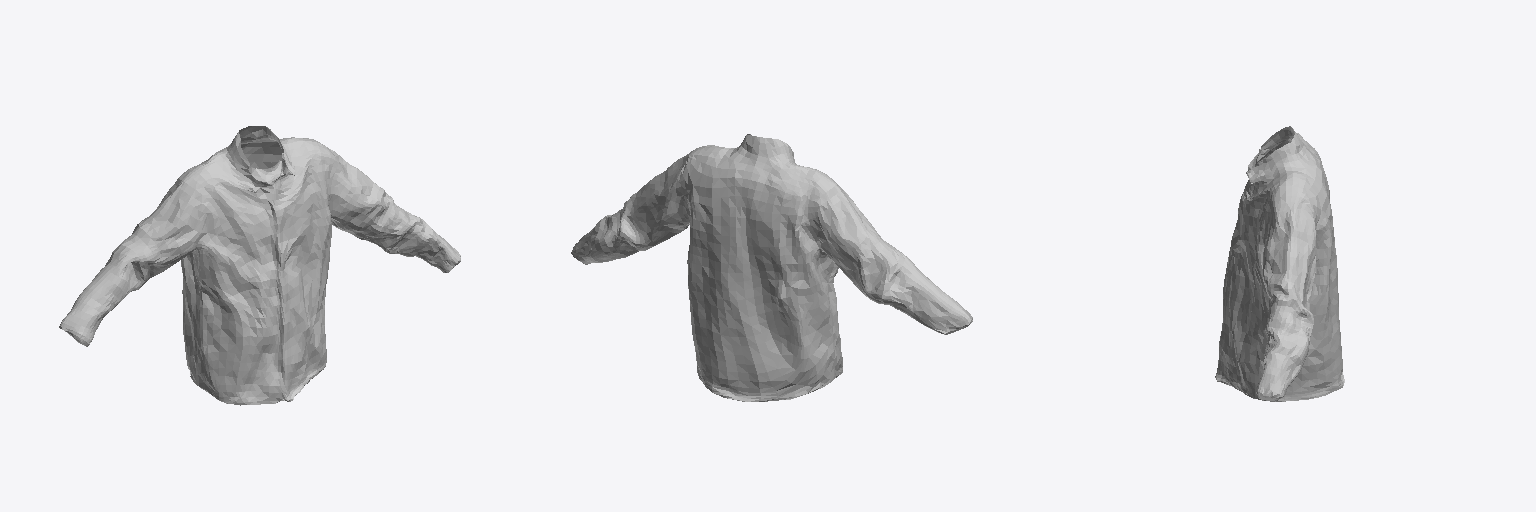
3 views of the same model, side by side, from view 1: azimuth 30°, elevation 25°; view 2: azimuth 150°, elevation 25°; view 3: azimuth 270°, elevation 25° (orthographic).
Parts seen in each view (by area): view 1: StripeShirt; view 2: StripeShirt; view 3: StripeShirt.
Part boxes in pixels (x1,y1,x2,y2): StripeShirt: (59, 126, 460, 405); StripeShirt: (571, 134, 972, 401); StripeShirt: (1215, 126, 1344, 401).
Bounding box in the file's own units: 35.61 × 21.19 × 10.01.